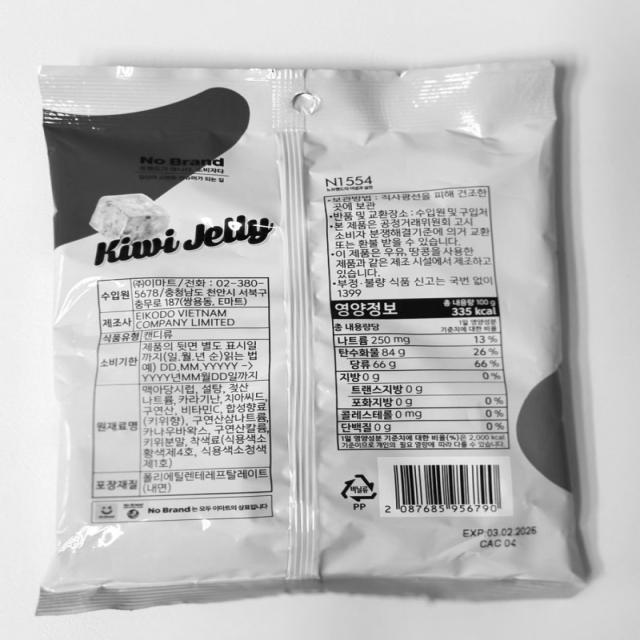Nutrition Label: (320, 294, 539, 462)
